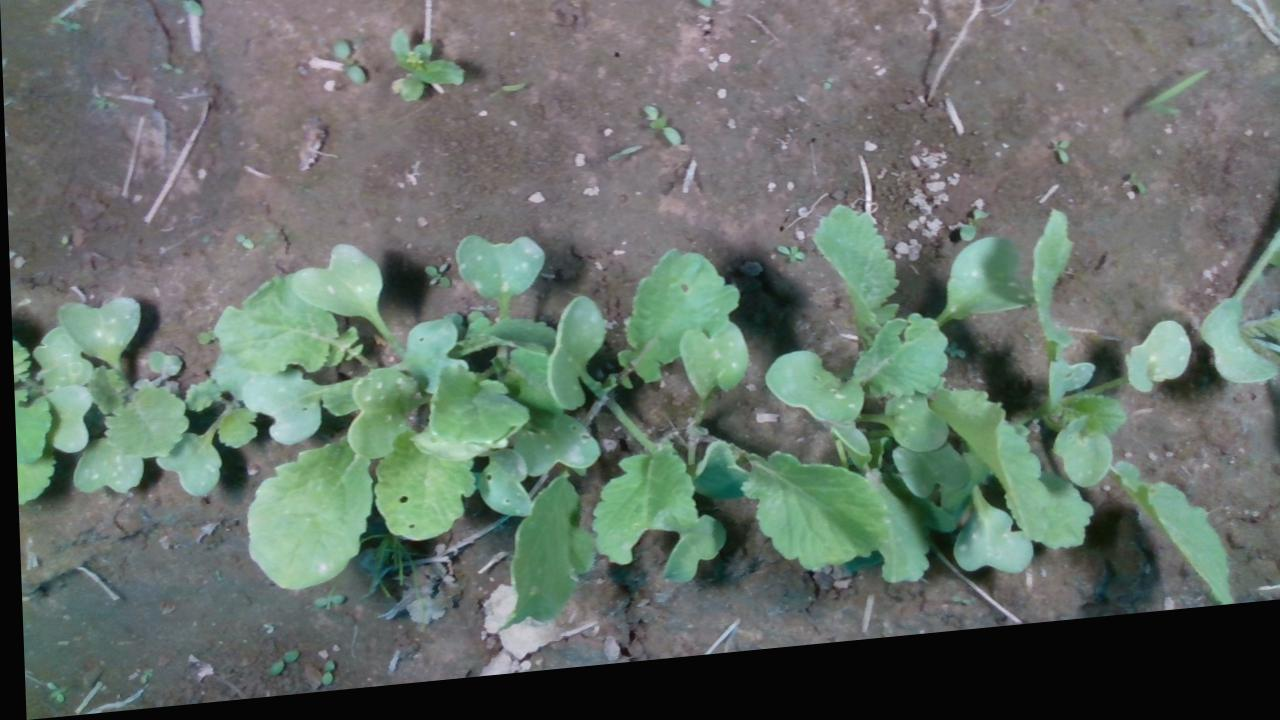weed: (641, 112, 682, 162), (332, 43, 364, 95), (666, 0, 712, 26), (259, 651, 295, 681), (771, 257, 803, 279), (307, 598, 339, 614), (314, 664, 328, 692), (561, 0, 584, 15)
